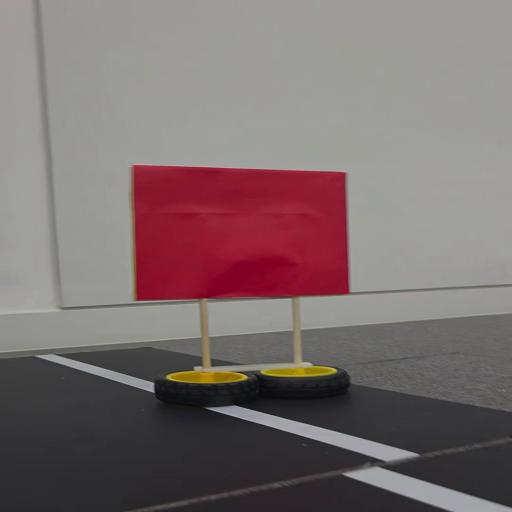Sign_A: (125, 158, 384, 416)
